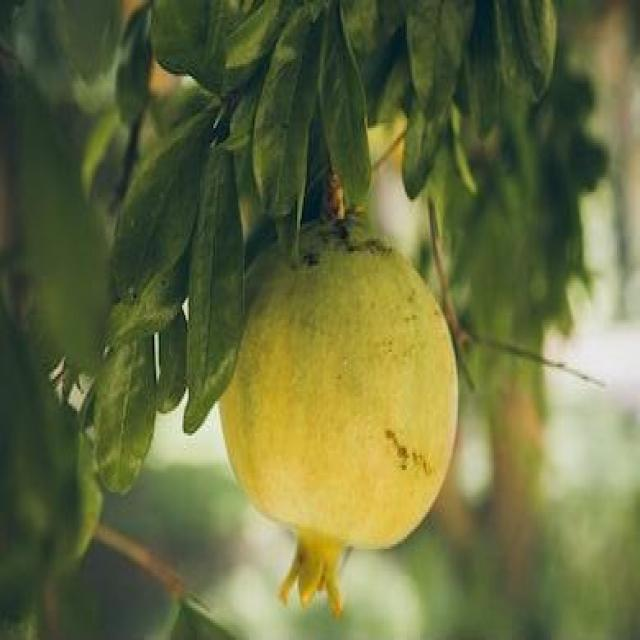Pomegranate: (214, 212, 460, 617)
